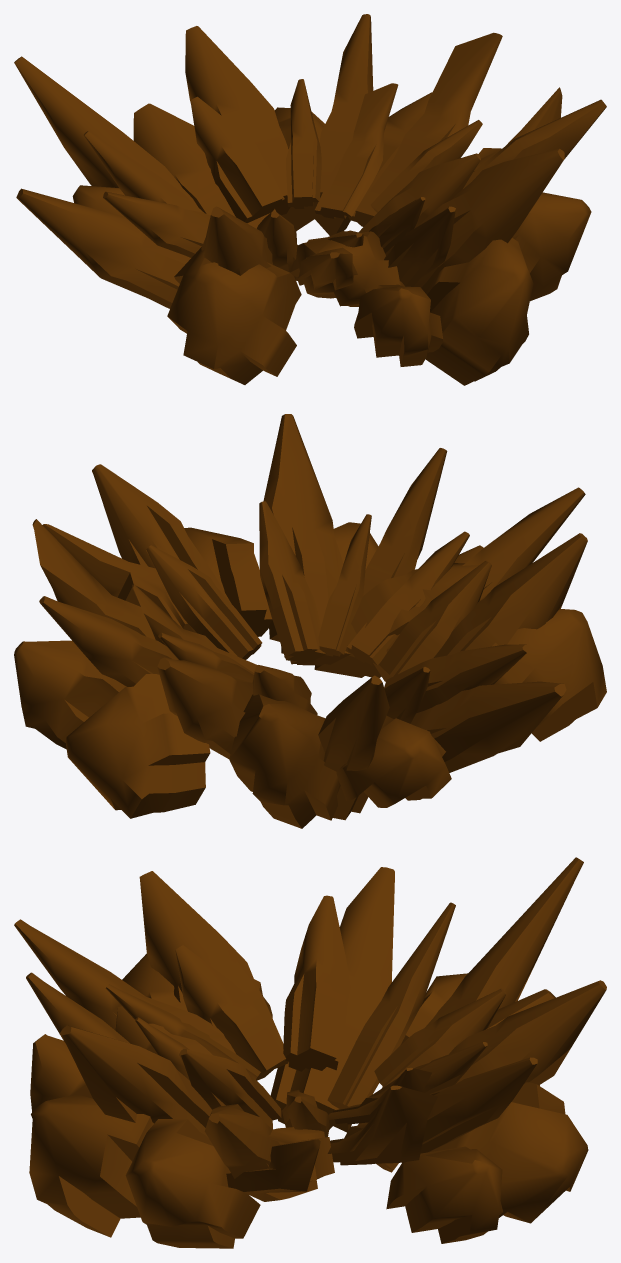
File: Earth_Golem_EarthShards_V1.fbx
The picture shows the model from 3 angles, top to bottom: view 1: azimuth 30°, elevation 25°; view 2: azimuth 150°, elevation 25°; view 3: azimuth 270°, elevation 25°; orthographic projection. The views are drawn at different scales.
Visible parts, largest first — view 1: cube22, cube29, cube3, cube, cube4, cube8, cube6, cube15, cube20, cube28, cube24, cube17 (+17 smaller); view 2: cube25, cube24, cube, cube3, cube22, cube26, cube2, cube23, cube19, cube4, cube7, cube5 (+17 smaller); view 3: cube29, cube28, cube25, cube3, cube, cube26, cube13, cube2, cube14, cube4, cube6, cube12 (+18 smaller).
Part boxes in pixels (box(x1,y1,x2,y2)): cube22: box(167, 247, 301, 384); cube29: box(425, 238, 533, 385); cube3: box(16, 188, 190, 308); cube: box(418, 148, 564, 291); cube4: box(185, 26, 290, 215); cube8: box(348, 32, 502, 226); cube6: box(14, 56, 198, 207); cube15: box(190, 96, 284, 223); cube20: box(354, 286, 443, 366); cube28: box(512, 192, 591, 301); cube24: box(133, 103, 276, 228); cube17: box(314, 83, 398, 218); cube25: box(66, 674, 210, 818); cube24: box(229, 694, 339, 828); cube: box(263, 414, 350, 665); cube3: box(410, 681, 566, 772); cube22: box(492, 609, 606, 741); cube26: box(14, 640, 126, 749); cube2: box(433, 533, 587, 657); cube23: box(336, 715, 451, 807); cube19: box(259, 501, 326, 664); cube4: box(157, 657, 252, 758); cube7: box(92, 464, 231, 603); cube5: box(39, 596, 177, 686); cube29: box(29, 1094, 153, 1237); cube28: box(125, 1119, 260, 1248); cube25: box(430, 1082, 588, 1223); cube3: box(270, 867, 394, 1132); cube: box(59, 1025, 212, 1138); cube26: box(386, 1146, 502, 1243); cube13: box(283, 895, 350, 1071); cube2: box(139, 871, 288, 1080); cube14: box(327, 902, 455, 1108); cube4: box(449, 980, 606, 1085); cube6: box(357, 857, 583, 1172); cube12: box(175, 945, 285, 1079).
Size of the model in its own units: 56.05 by 23.49 by 50.49.
